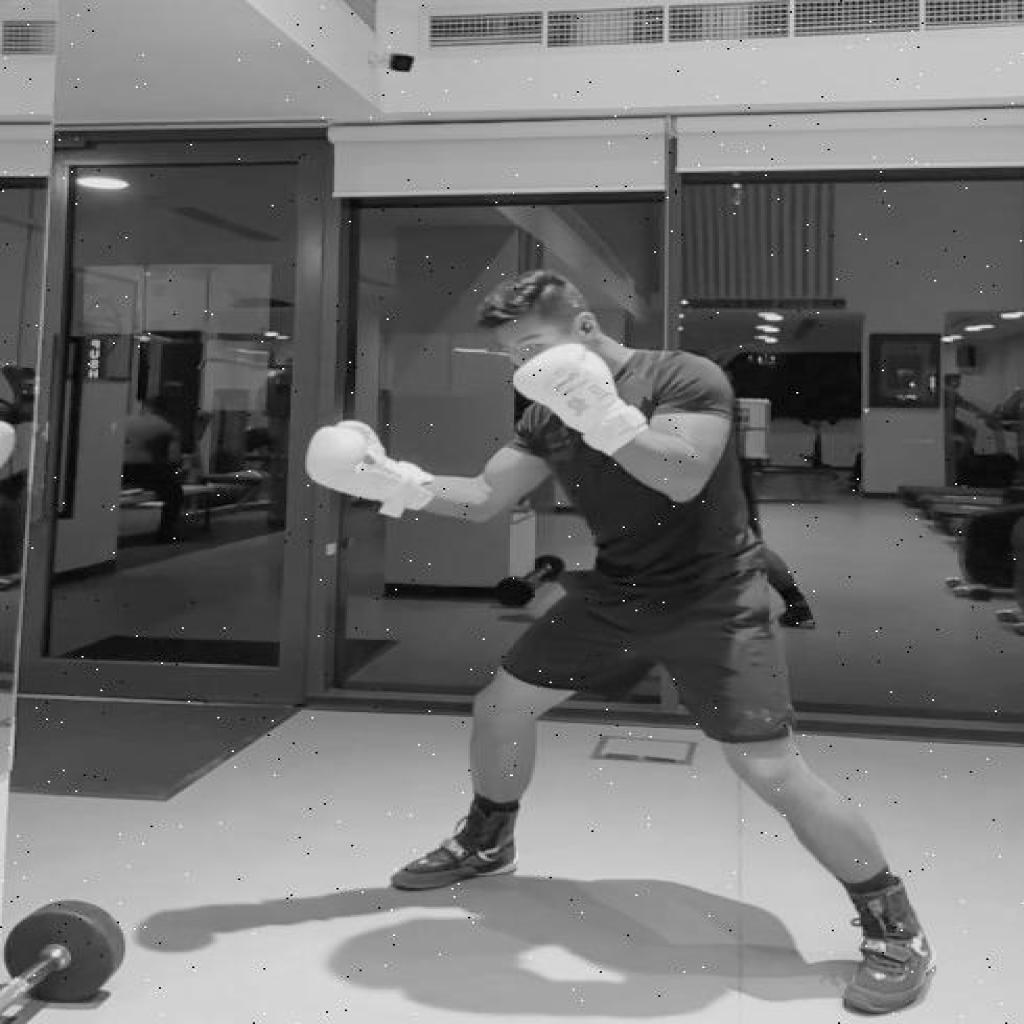uppercut: (301, 267, 940, 1021)
